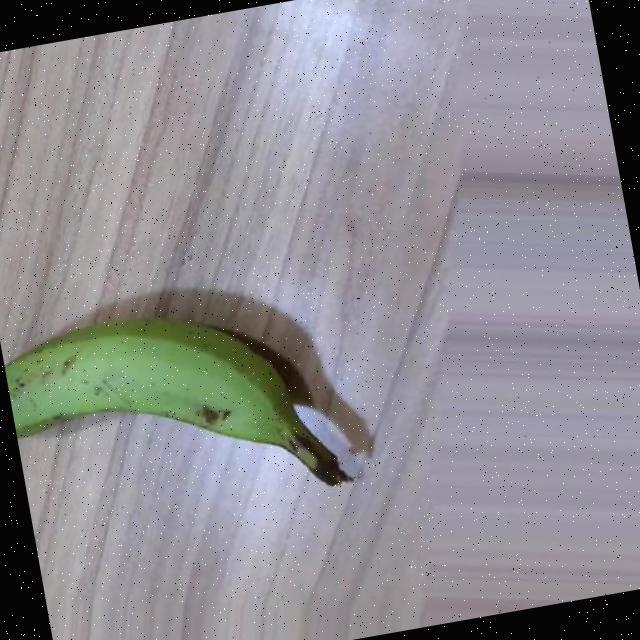Unripe: (0, 285, 349, 538)
